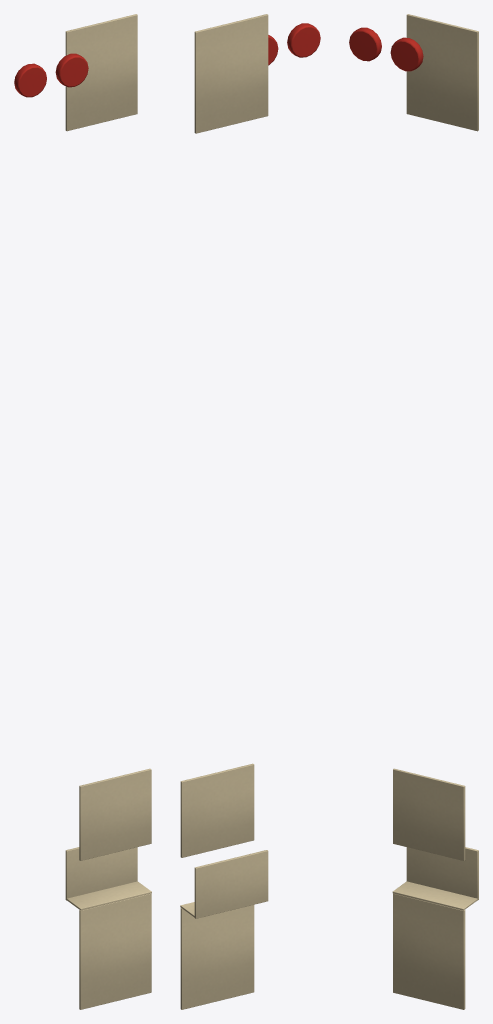
File: 16-toy-brick-trims-and-join-tape-4.fbx
3 renders of one model, left to right at view 1: azimuth 30°, elevation 25°; view 2: azimuth 210°, elevation 25°; view 3: azimuth 330°, elevation 25°, orthographic. The views are drawn at different scales.
Parts seen in each view (by area): view 1: toy-brick-trims-and-join-tape-4; view 2: toy-brick-trims-and-join-tape-4; view 3: toy-brick-trims-and-join-tape-4.
Boxes of the visible parts, x1,y1,x2,y2 form: toy-brick-trims-and-join-tape-4: (14,14,151,1009); toy-brick-trims-and-join-tape-4: (180,14,320,1009); toy-brick-trims-and-join-tape-4: (349,14,478,1009).
Bounding box in the file's own units: 1050 × 7800 × 225.
1 material, 1 textured.
